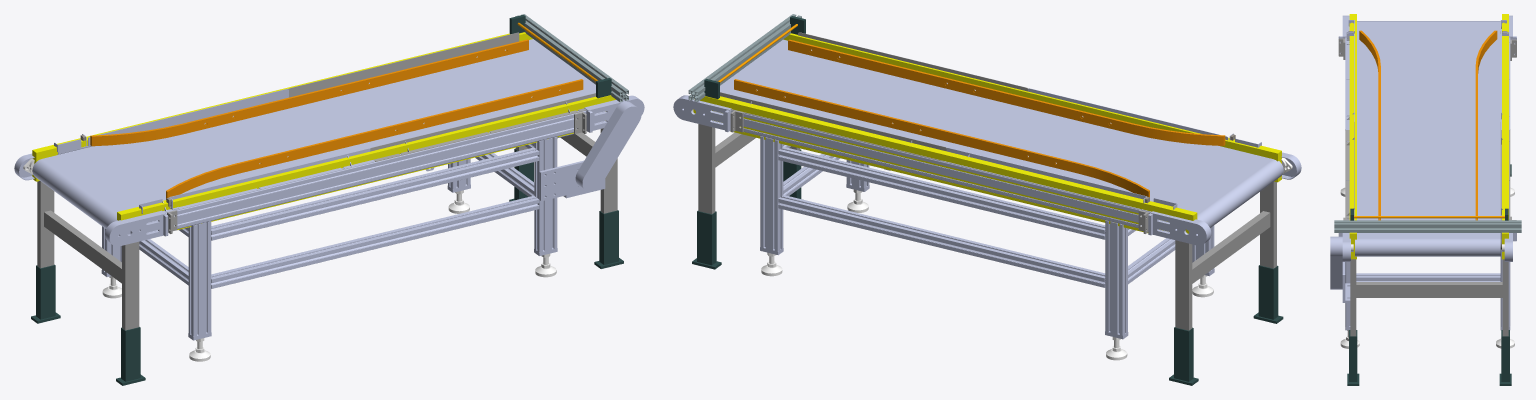
Rendered from 传送带.fbx.
The picture shows the model from 3 angles, left to right: view 1: azimuth 30°, elevation 25°; view 2: azimuth 150°, elevation 25°; view 3: azimuth 270°, elevation 25°; orthographic projection. The views are drawn at different scales.
Parts seen in each view (by area): view 1: object 1, Part2-1-solid2, SB32, object 72, Part2-1-solid13, Part2-1-solid14, object 71, StartSupport1, Part2-1-solid5, StartSupport0, object 7, Part2-1-solid6 (+14 smaller); view 2: object 1, SB32, Part2-1-solid1, object 71, Part2-1-solid11, Part2-1-solid12, object 72, StartSupport1, Part2-1-solid4, Part2-1-solid3, StartSupport0, EndSupport1 (+10 smaller); view 3: object 1, EndSupport1, SB32, ImportedMesh2, Part2-1-solid7, EndSupport0, object 72, object 71, object 6, object 62, object 18, PE30 (+6 smaller).
Part boxes in pixels (box(x1,y1,x2,y2)): object 1: box(32, 39, 595, 228); Part2-1-solid2: box(147, 110, 605, 233); SB32: box(32, 32, 615, 229); object 72: box(90, 39, 528, 146); Part2-1-solid13: box(211, 147, 539, 240); Part2-1-solid14: box(211, 195, 539, 288); object 71: box(166, 79, 583, 199); StartSupport1: box(37, 181, 139, 330); Part2-1-solid5: box(188, 221, 211, 336); StartSupport0: box(31, 264, 145, 385); object 7: box(288, 32, 519, 97); Part2-1-solid6: box(534, 136, 557, 252); object 1: box(720, 39, 1283, 227); SB32: box(693, 33, 1281, 233); Part2-1-solid1: box(712, 110, 1169, 232); object 71: box(788, 39, 1225, 145); Part2-1-solid11: box(778, 195, 1105, 287); Part2-1-solid12: box(778, 147, 1105, 239); object 72: box(734, 79, 1149, 197); StartSupport1: box(1175, 181, 1276, 330); Part2-1-solid4: box(1105, 220, 1127, 335); Part2-1-solid3: box(760, 136, 783, 251); StartSupport0: box(1169, 265, 1283, 385); EndSupport1: box(698, 124, 799, 214); object 1: box(1355, 21, 1500, 256); EndSupport1: box(1350, 259, 1508, 336); SB32: box(1349, 14, 1508, 259); ImportedMesh2: box(1334, 220, 1521, 232); Part2-1-solid7: box(1356, 273, 1500, 281); EndSupport0: box(1347, 330, 1511, 385); object 72: box(1475, 30, 1497, 220); object 71: box(1359, 30, 1380, 220); object 6: box(1330, 236, 1342, 289); object 62: box(1345, 20, 1354, 129); object 18: box(1345, 121, 1354, 220); PE30: box(1354, 216, 1504, 218).
Size of the model in its own units: 0.00366 by 0.00121 by 0.00127.
